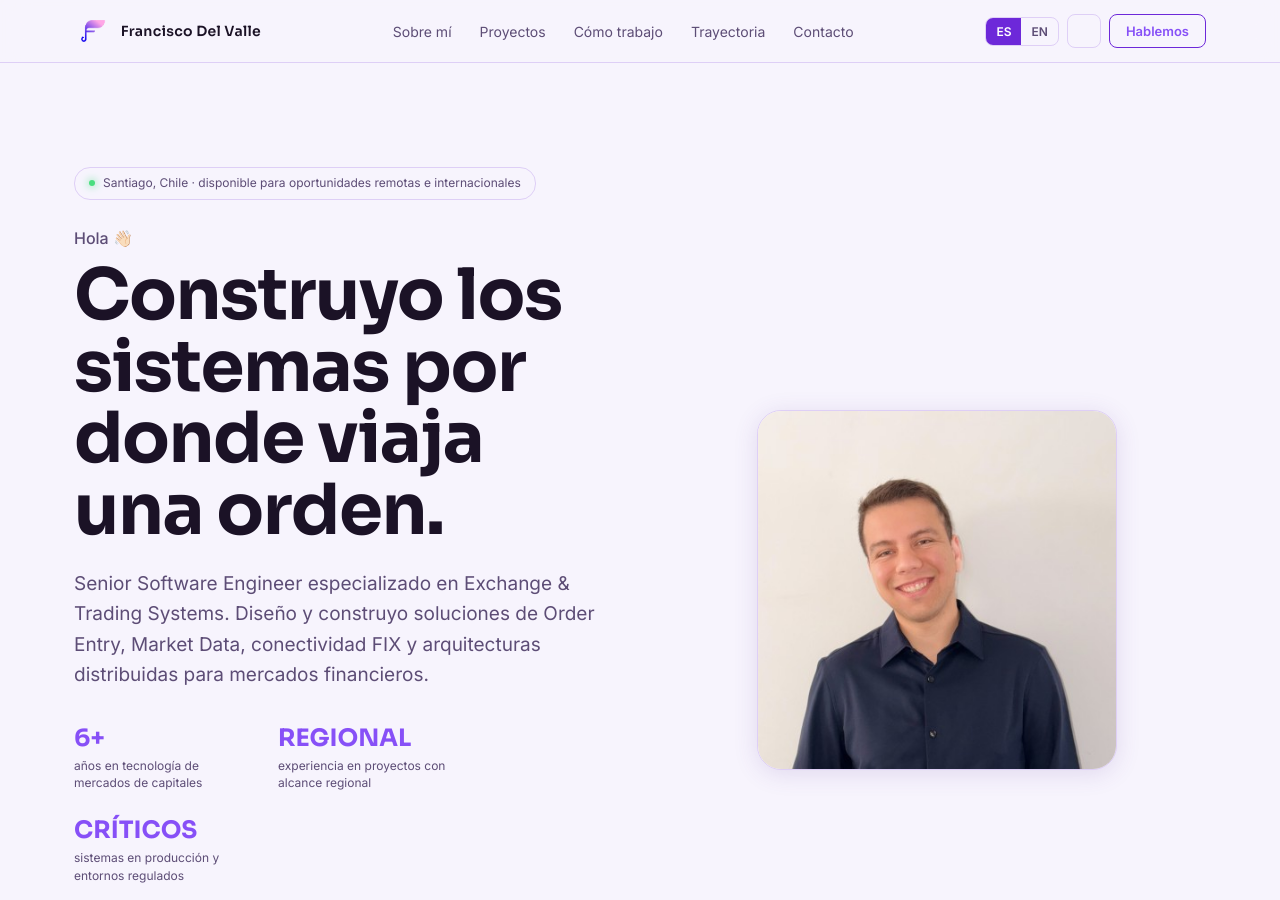
Test case: switches the narrative to English
The image size is (1280, 900).
Click the button "EN" at (1040, 31), box [1022,18,1058,44]
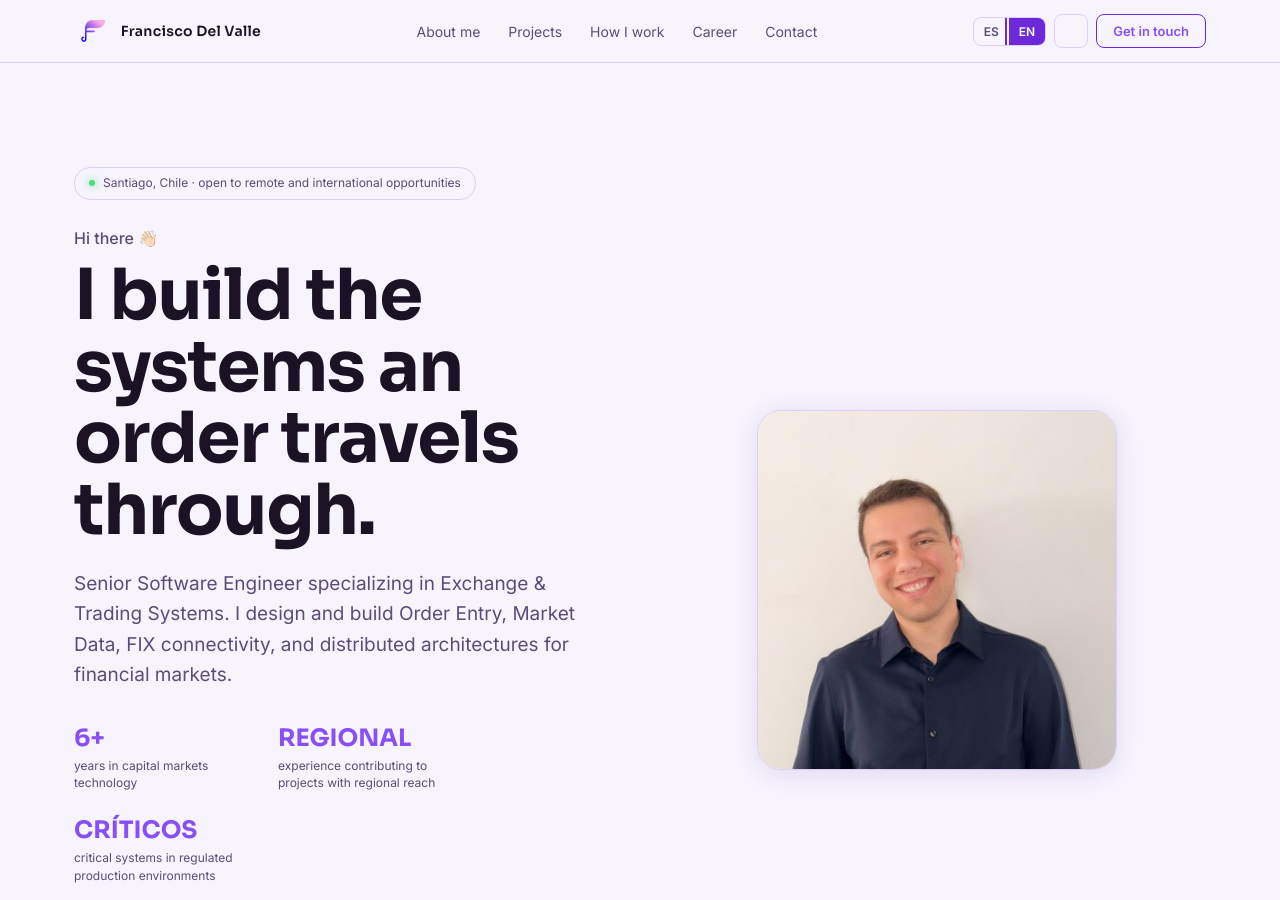
Expected: the heading "I build the systems an order travels through." is shown, [74,251,518,554]
